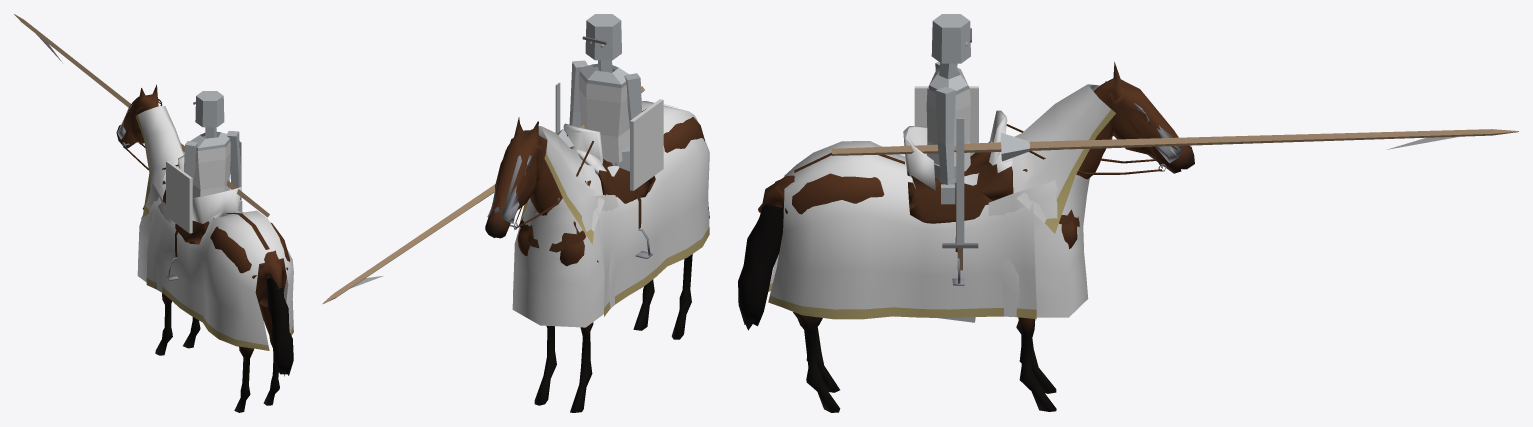
Rendered from cavalry_hx_med_knight_lod1.glb.
The picture shows the model from 3 angles, left to right: view 1: azimuth 30°, elevation 25°; view 2: azimuth 150°, elevation 25°; view 3: azimuth 270°, elevation 25°; orthographic projection. The views are drawn at different scales.
Visible parts, largest first — view 1: hx_med_knight_lod1; view 2: hx_med_knight_lod1; view 3: hx_med_knight_lod1.
Part boxes in pixels (x1,y1,x2,y2): hx_med_knight_lod1: [14, 14, 293, 412]; hx_med_knight_lod1: [322, 14, 709, 412]; hx_med_knight_lod1: [738, 14, 1518, 412].
Size of the model in its own units: 0.6937 by 2.35 by 4.37.
